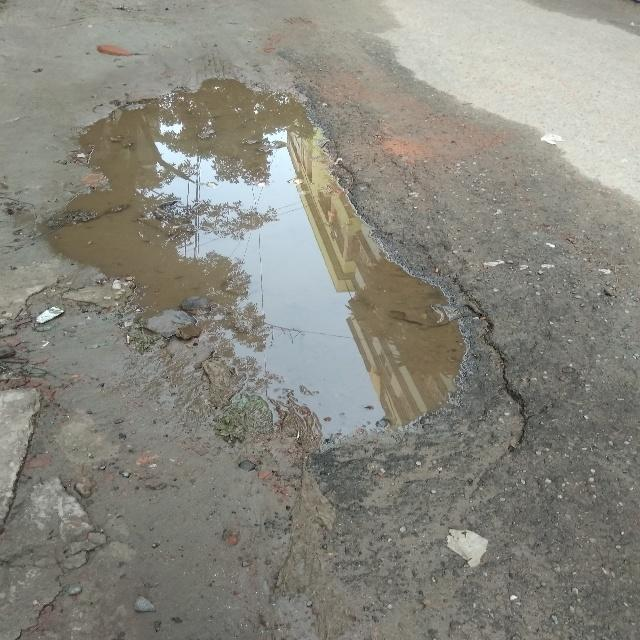Surface Erosion: (27, 52, 566, 568)
